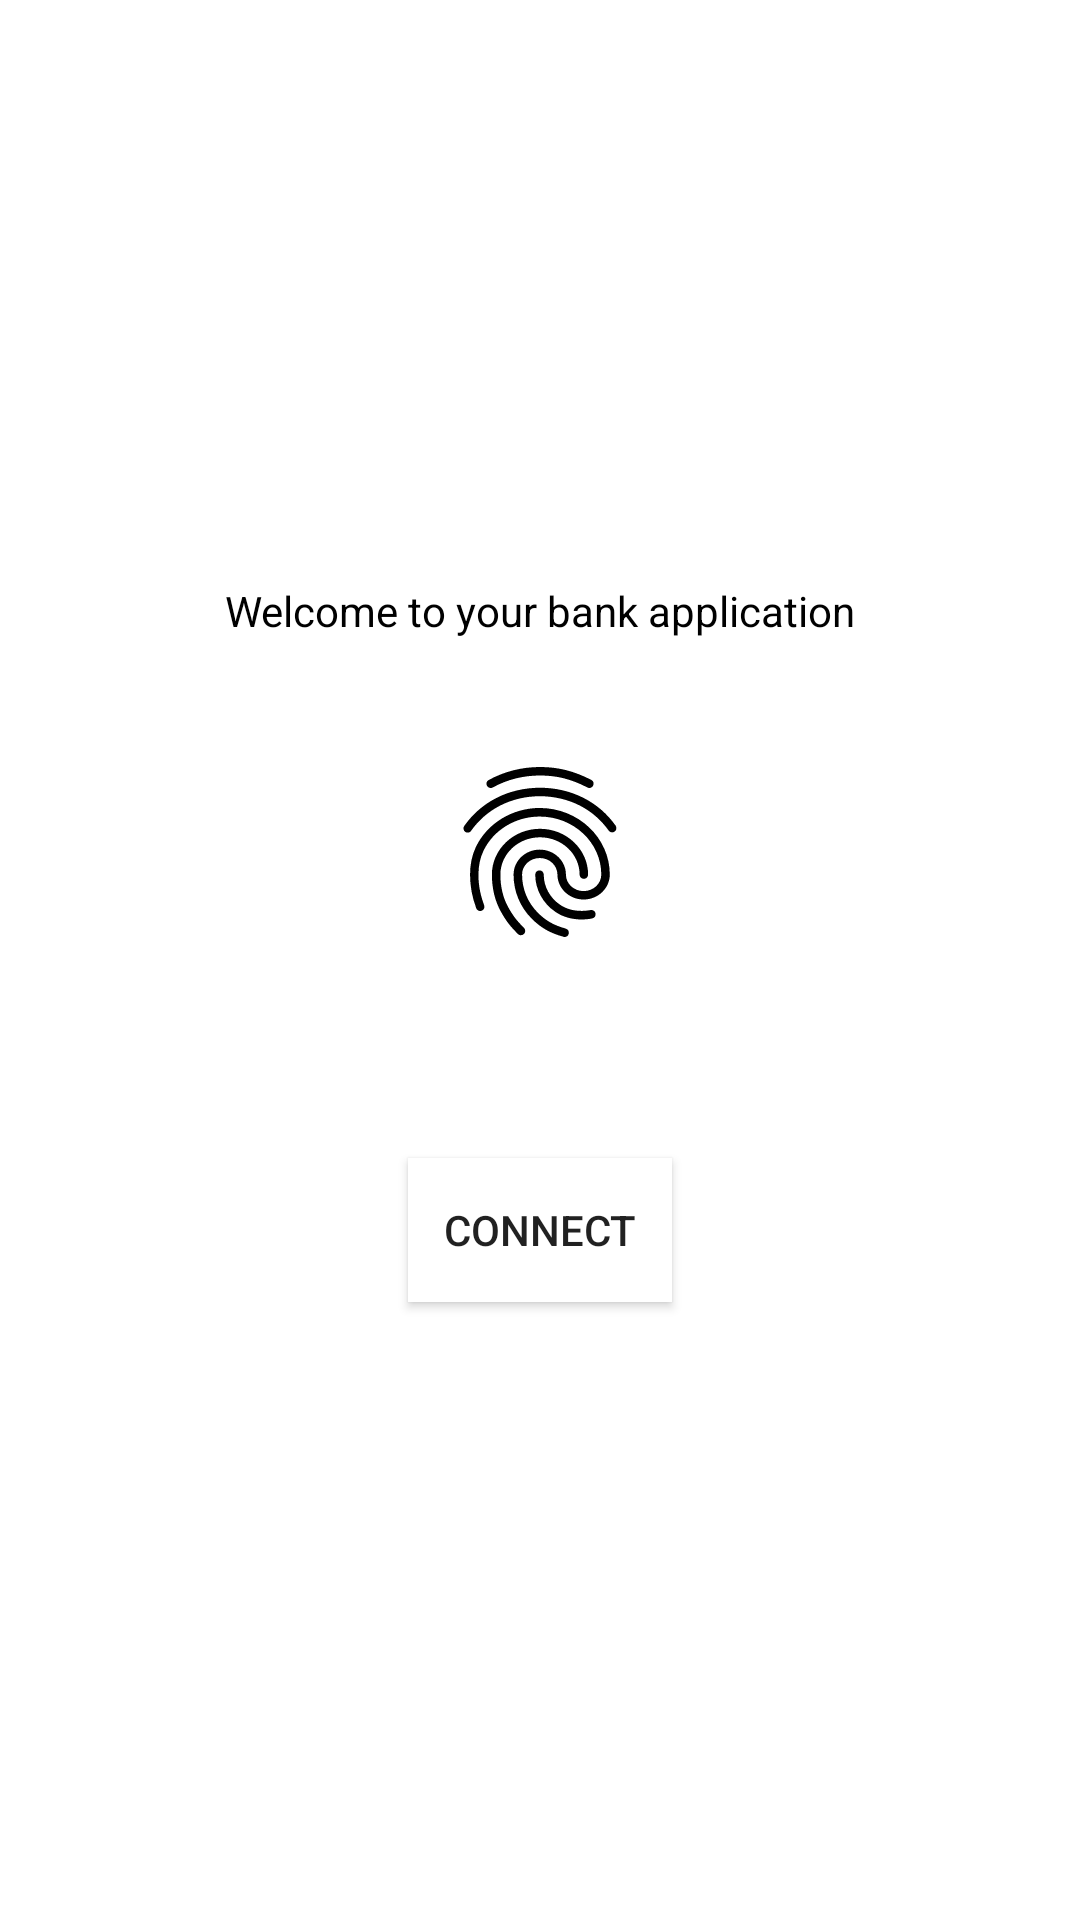

Named icons in this screenshot (1080x1920) and their centers, point (x, y):
fingerprint: point (540, 852)
